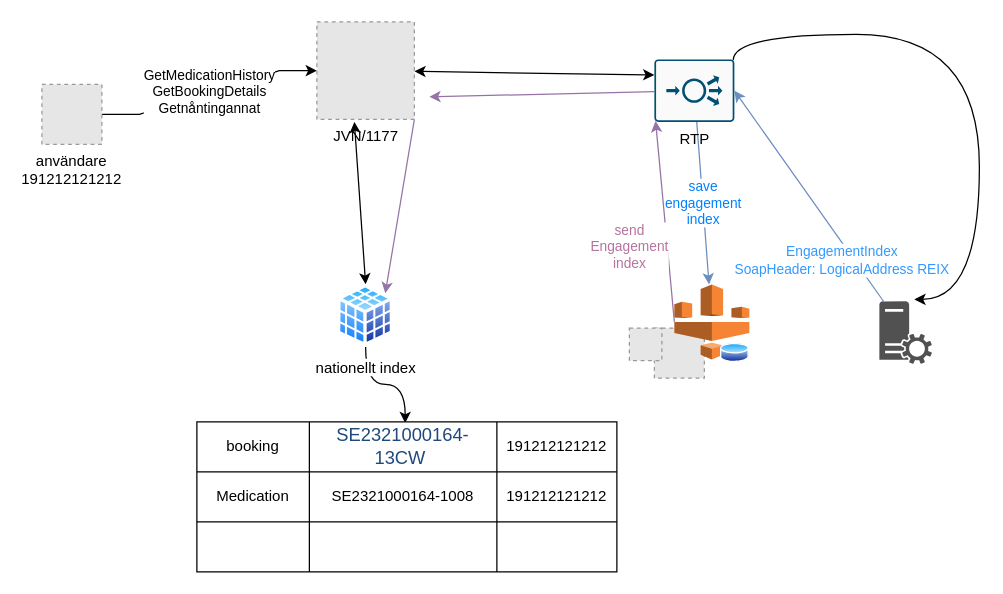
Some shapes in this 1003 by 594 pixel diagram are drawn without their labels. Grey dashed boxes stand in for pictures. The shapes that lost their labels are listed below. From the top down, each one's box as (x1, y1, x2, y2) in pixels, then its label:
(673, 283, 749, 359): REIX
(879, 301, 931, 363): källsystem SE2321000164-13CW
